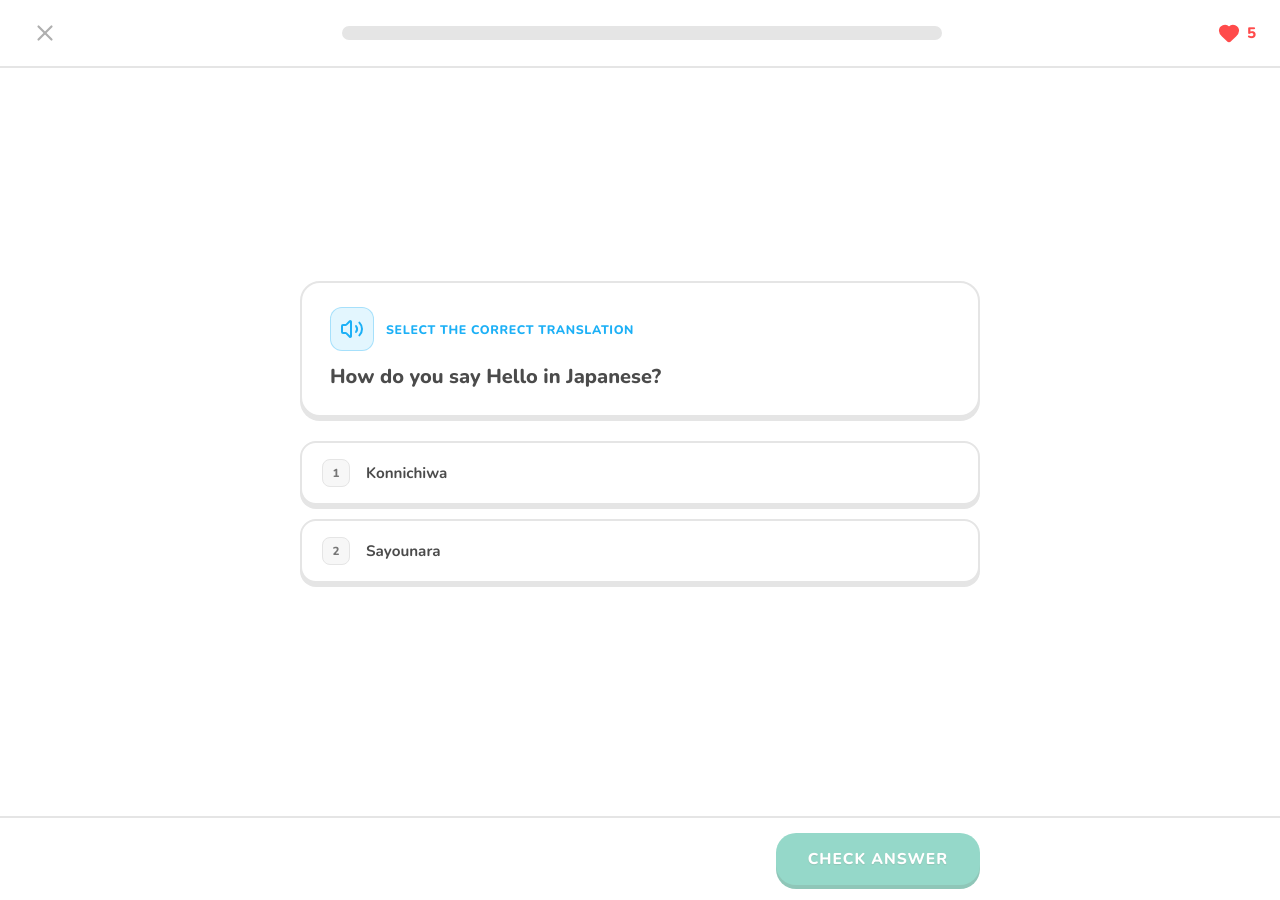
Test: LessonRunner Component (Quest Engine) › selects option, enables check answer, and displays correct drawer feedback
Note: Select correct option
Click the radio button labelled "1 Konnichiwa": (407, 473) [300,441,980,505]
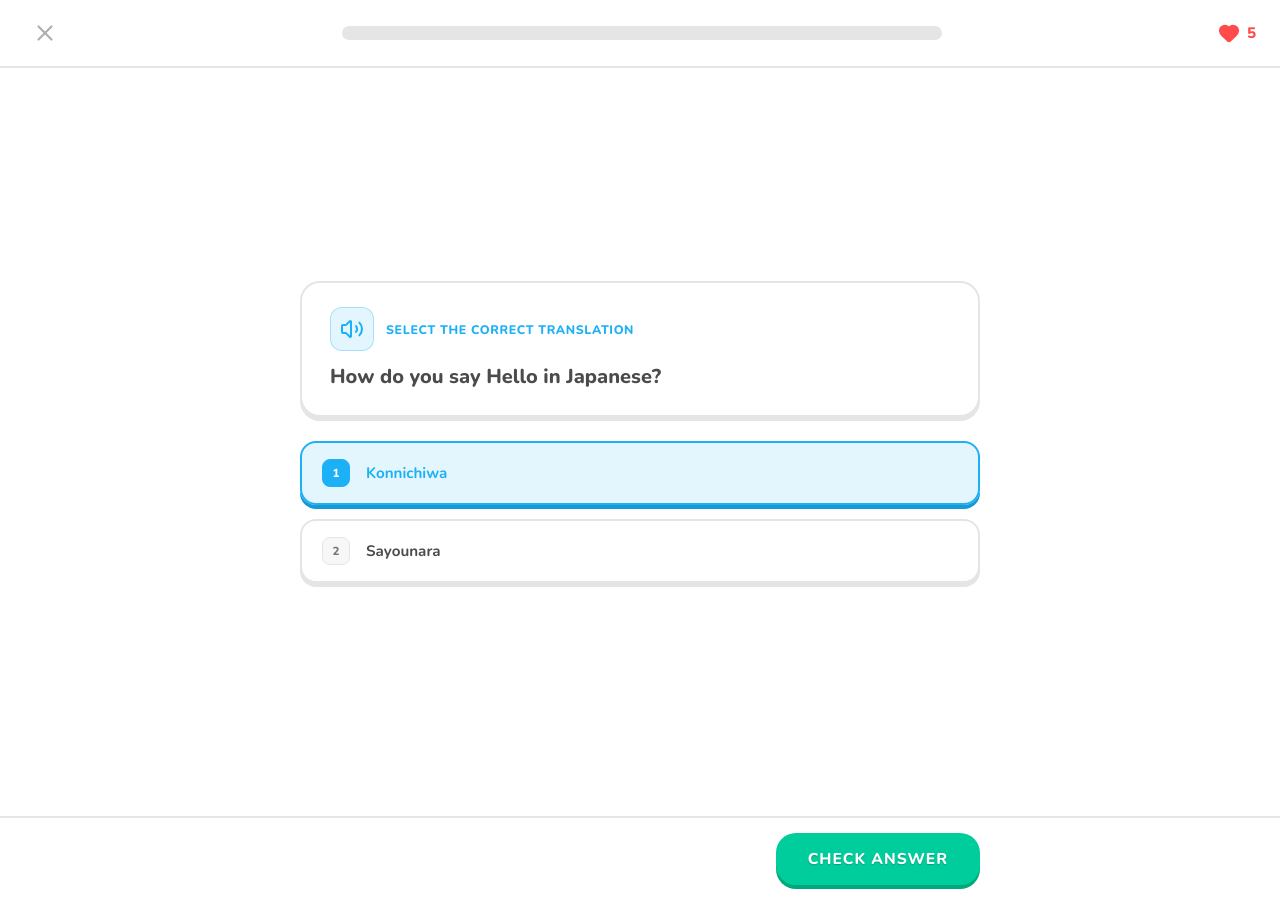
Result: the button "Check Answer" is enabled
Note: Check answer
Click the button "Check Answer": (878, 859) [776,833,980,885]
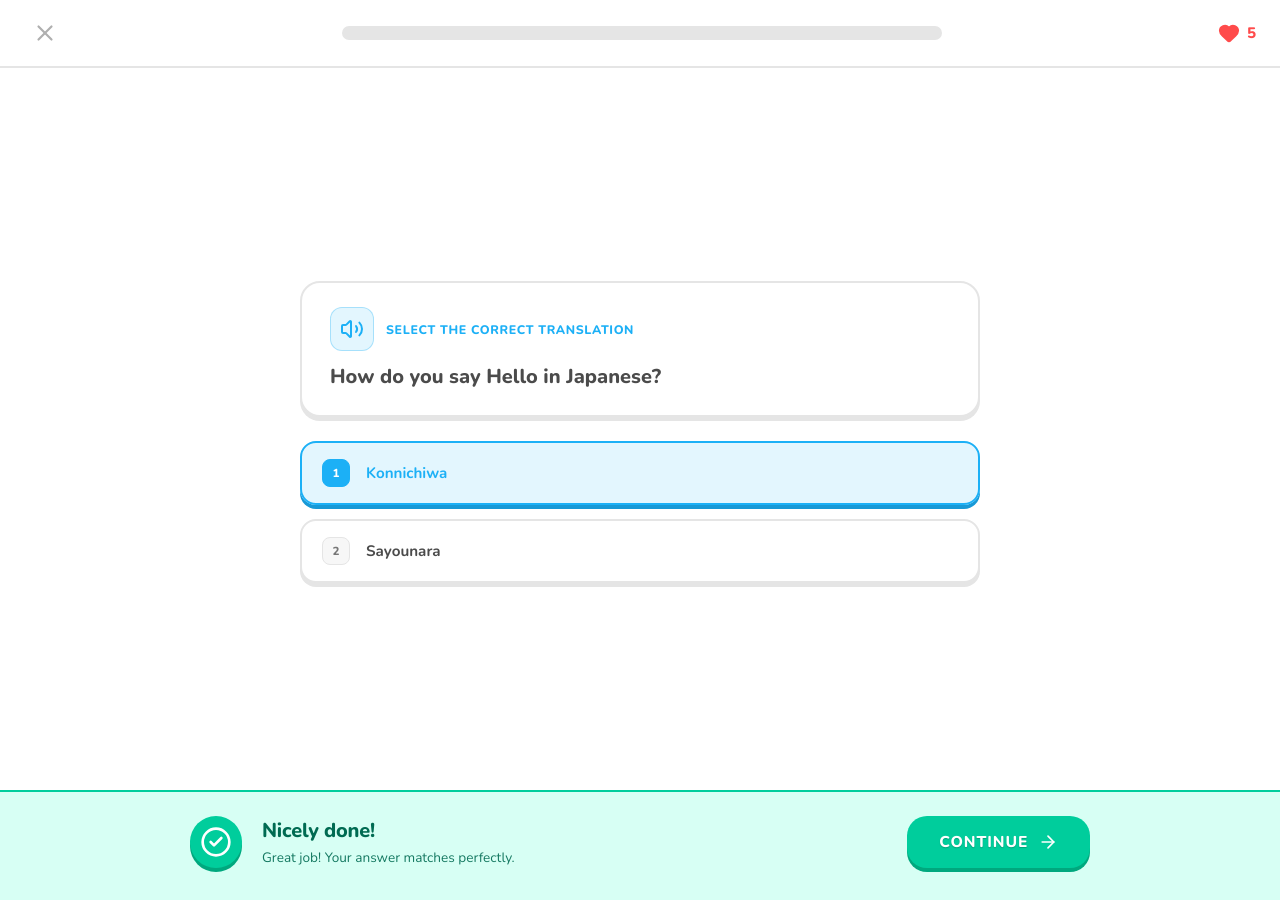
Result: the text "Nicely done!" is shown at [262,817,375,844]
Result: the text "Great job! Your answer matches perfectly." is shown at [262,848,515,867]
